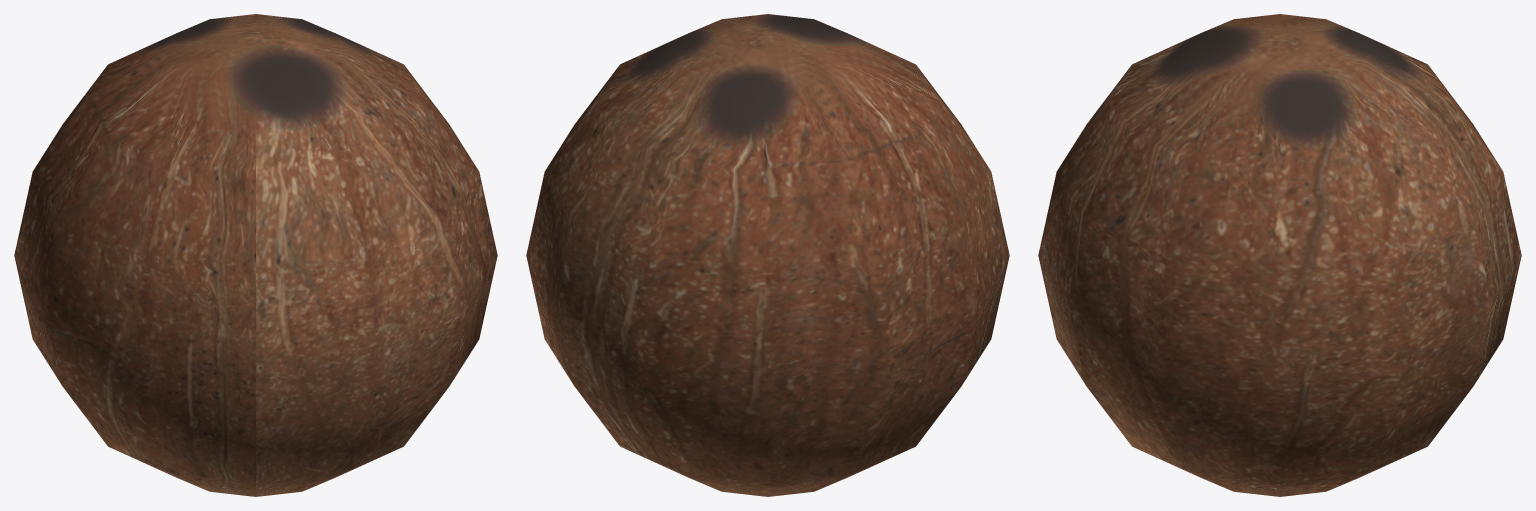
Rendered from Coconut.fbx.
3 renders of one model, left to right at view 1: azimuth 30°, elevation 25°; view 2: azimuth 150°, elevation 25°; view 3: azimuth 270°, elevation 25°, orthographic.
Visible parts, largest first — view 1: Sphere; view 2: Sphere; view 3: Sphere.
Part boxes in pixels (x1,y1,x2,y2): Sphere: (14, 14, 497, 496); Sphere: (526, 14, 1009, 496); Sphere: (1038, 14, 1521, 496).
Bounding box in the file's own units: 200 × 200 × 200.
